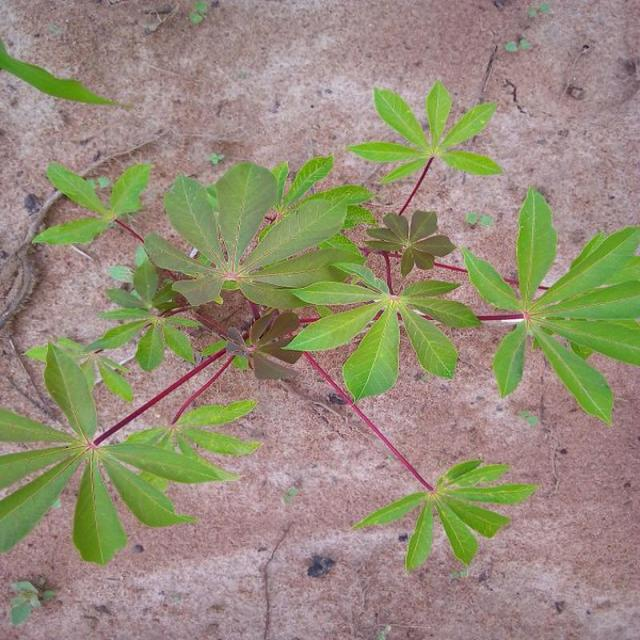cassava leaf: (351, 455, 540, 572)
